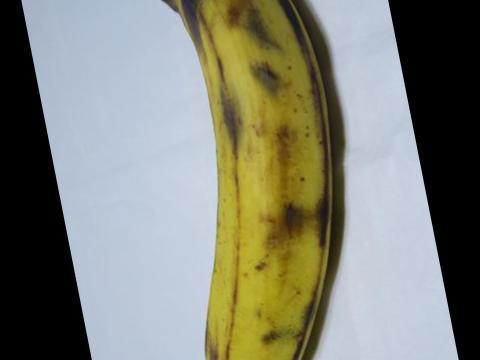overripe: (155, 0, 359, 359)
